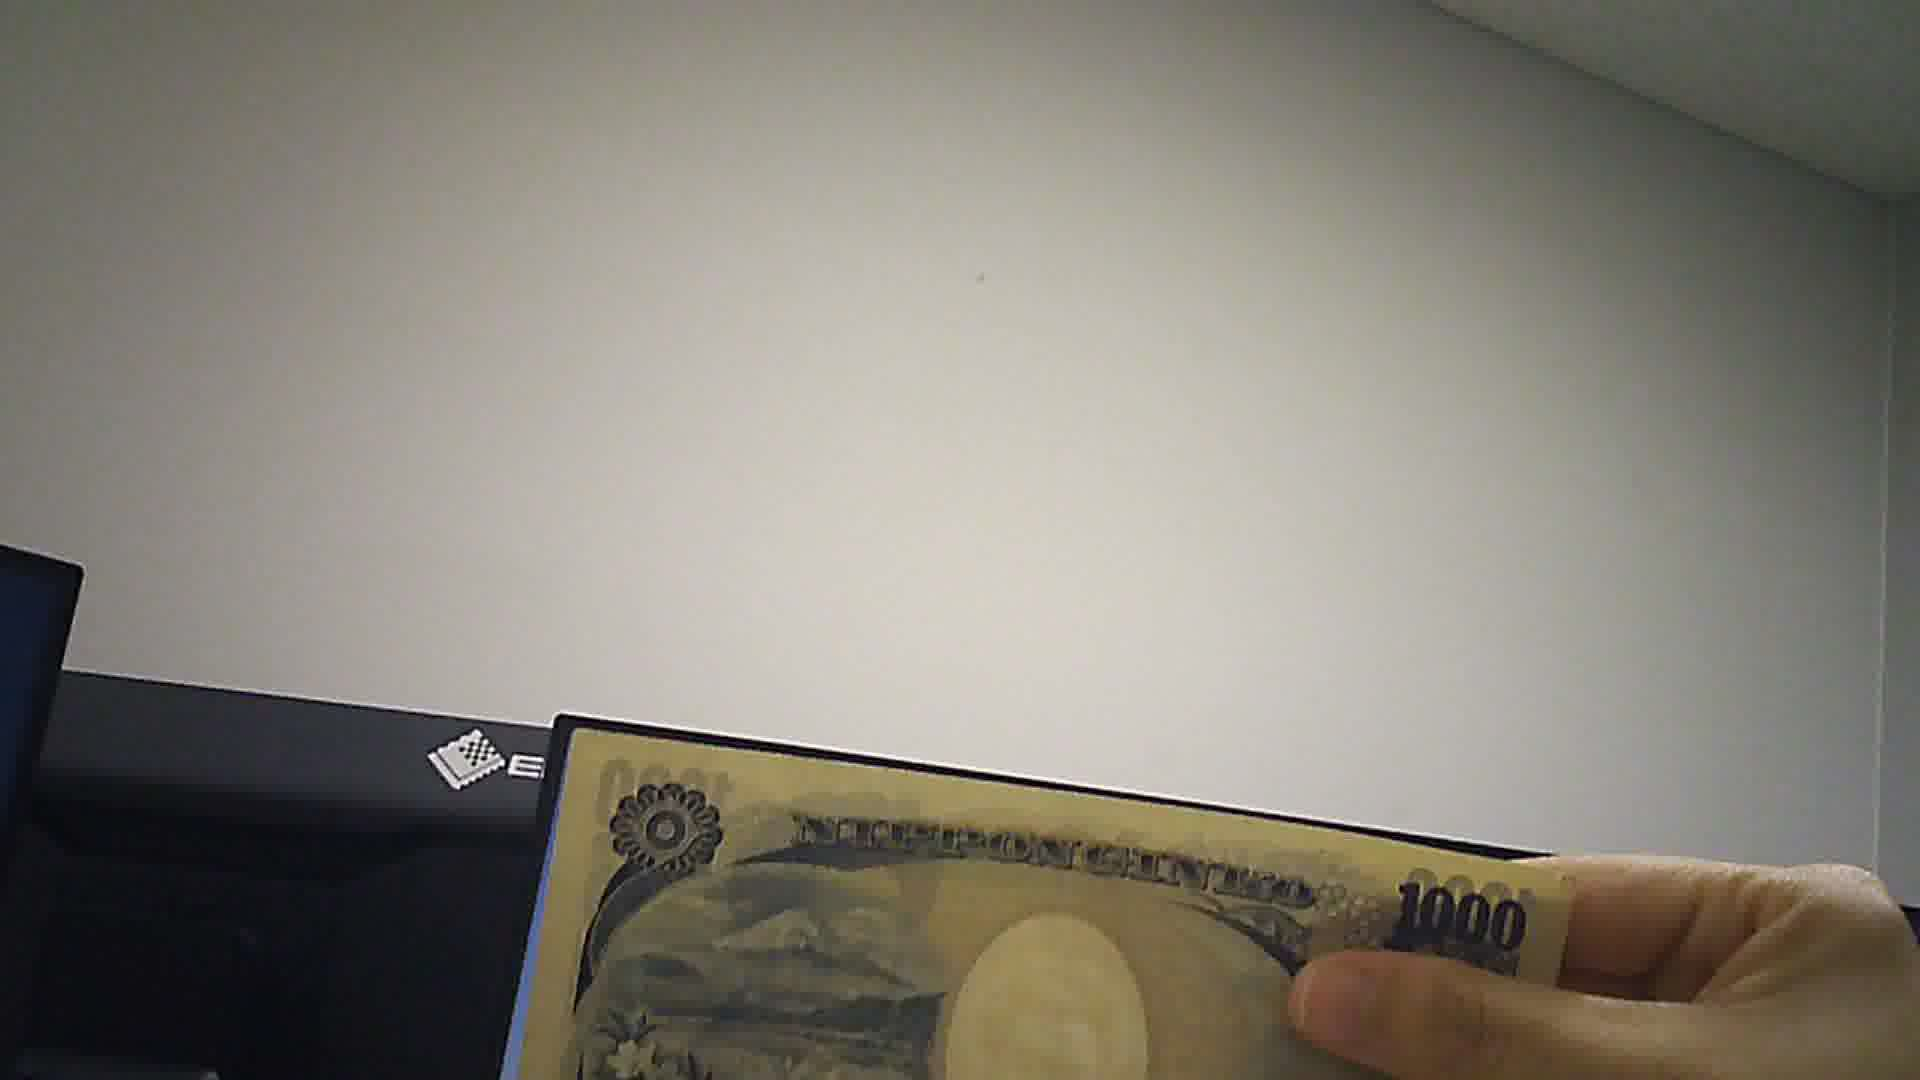1,000 Yen: (501, 712, 1592, 1079)
